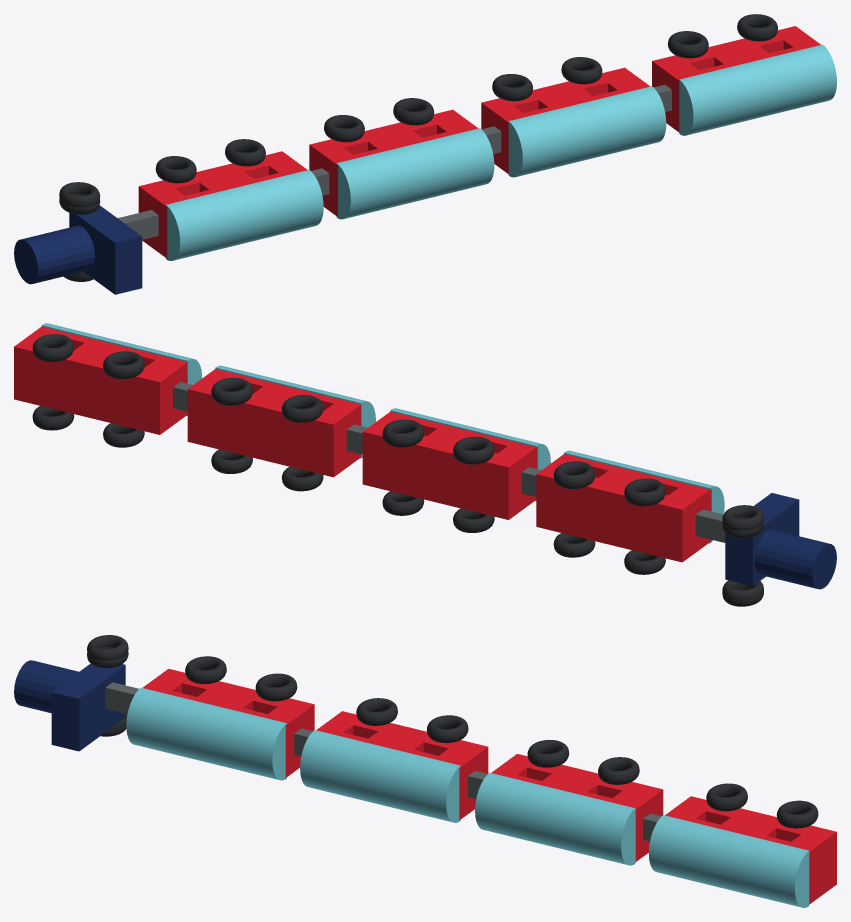
The model's file is tinker.obj.
The picture shows the model from 3 angles, top to bottom: view 1: azimuth 30°, elevation 25°; view 2: azimuth 150°, elevation 25°; view 3: azimuth 330°, elevation 25°; orthographic projection.
Visible parts, largest first — view 1: group_0_7720667, group_0_15277357, group_0_2829873, group_0_1650274, group_0_6383466; view 2: group_0_15277357, group_0_2829873, group_0_1650274, group_0_7720667, group_0_6383466; view 3: group_0_7720667, group_0_15277357, group_0_2829873, group_0_1650274, group_0_6383466.
Boxes of the visible parts, x1=… form: group_0_7720667: x1=166, y1=44, x2=836, y2=260; group_0_15277357: x1=138, y1=26, x2=820, y2=258; group_0_2829873: x1=59, y1=14, x2=777, y2=281; group_0_1650274: x1=14, y1=205, x2=142, y2=294; group_0_6383466: x1=118, y1=84, x2=671, y2=239; group_0_15277357: x1=14, y1=326, x2=711, y2=562; group_0_2829873: x1=32, y1=334, x2=763, y2=606; group_0_1650274: x1=725, y1=493, x2=836, y2=589; group_0_7720667: x1=41, y1=323, x2=724, y2=543; group_0_6383466: x1=173, y1=382, x2=725, y2=542; group_0_7720667: x1=126, y1=687, x2=809, y2=907; group_0_15277357: x1=142, y1=668, x2=836, y2=904; group_0_2829873: x1=87, y1=635, x2=818, y2=828; group_0_1650274: x1=14, y1=660, x2=125, y2=751; group_0_6383466: x1=105, y1=682, x2=661, y2=841.
Bounding box in the file's own units: 316 × 34 × 39.5.
